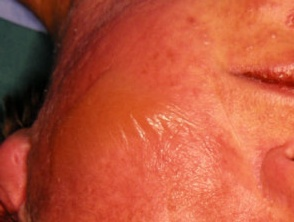SJS-TEN: (38, 0, 262, 216)
